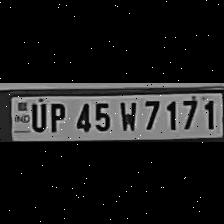1: (160, 96, 178, 130), (198, 95, 216, 129)
4: (70, 98, 92, 132)
5: (90, 98, 114, 132)
7: (139, 96, 161, 130), (178, 95, 198, 129)
P: (44, 99, 68, 131)
U: (27, 99, 45, 131)
W: (116, 96, 138, 132)
